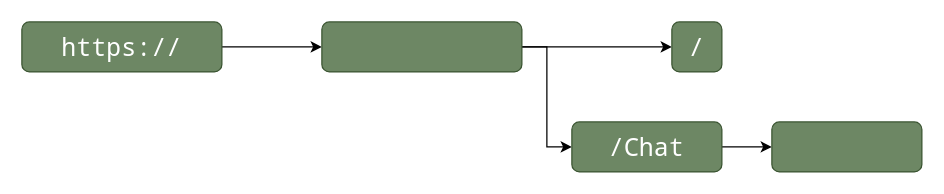
This 944x194 diagram has some shape labels left out. The centre of each missing label's shape, as x and y in pixels:
"/Input" goes at (x=846, y=146).
"< Domain >" goes at (x=421, y=46).
